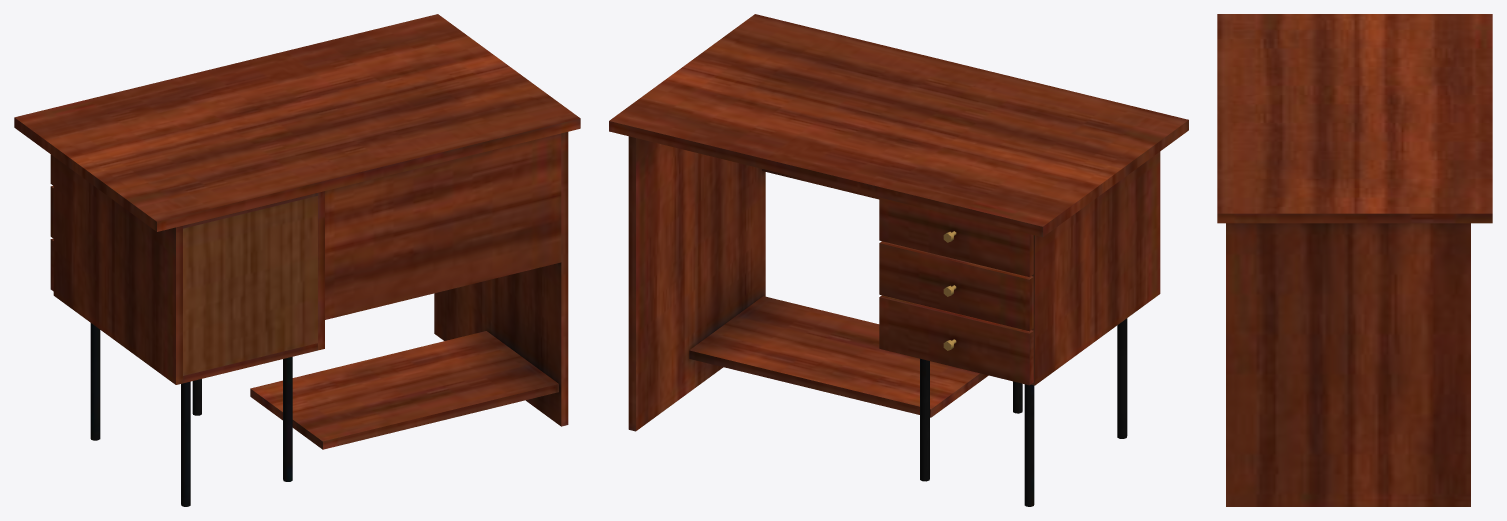
File: desk_school_lod1_web.glb
The picture shows the model from 3 angles, left to right: view 1: azimuth 30°, elevation 25°; view 2: azimuth 150°, elevation 25°; view 3: azimuth 270°, elevation 25°; orthographic projection. The views are drawn at different scales.
Visible parts, largest first — view 1: DeskSchool_Body; view 2: DeskSchool_Body, Drawer_1_2_Mesh, Drawer_1_1_Mesh, Drawer_1_3_Mesh; view 3: DeskSchool_Body.
Boxes of the visible parts, x1,y1,x2,y2 form: DeskSchool_Body: [14, 14, 580, 506]; DeskSchool_Body: [609, 14, 1188, 506]; Drawer_1_2_Mesh: [879, 241, 1033, 331]; Drawer_1_1_Mesh: [879, 295, 1033, 385]; Drawer_1_3_Mesh: [879, 197, 1033, 276]; DeskSchool_Body: [1217, 14, 1492, 506].
Size of the model in its own units: 1.08 by 0.75 by 0.63.
2 materials, 2 textured.
